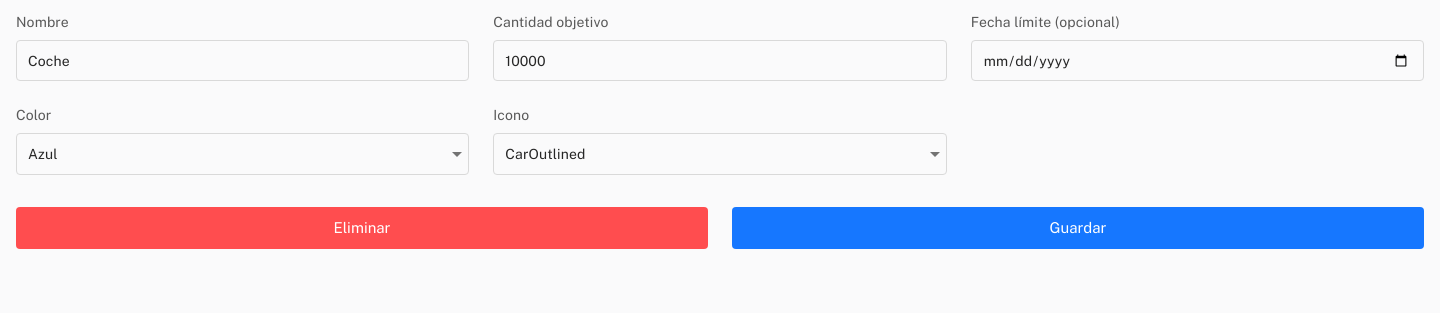
Test: GoalEdit › keeps the form open and shows the API error message when the request fails
Step 1. Click the button "Guardar" → coordinates (1078, 228), box 732,206 -> 1424,249
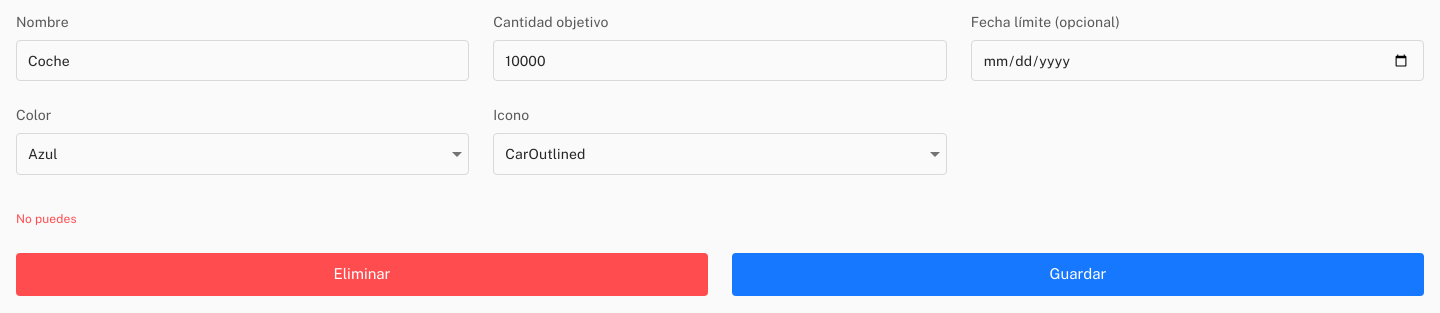
Result: the text "No puedes" is shown at 16,212 -> 77,226
